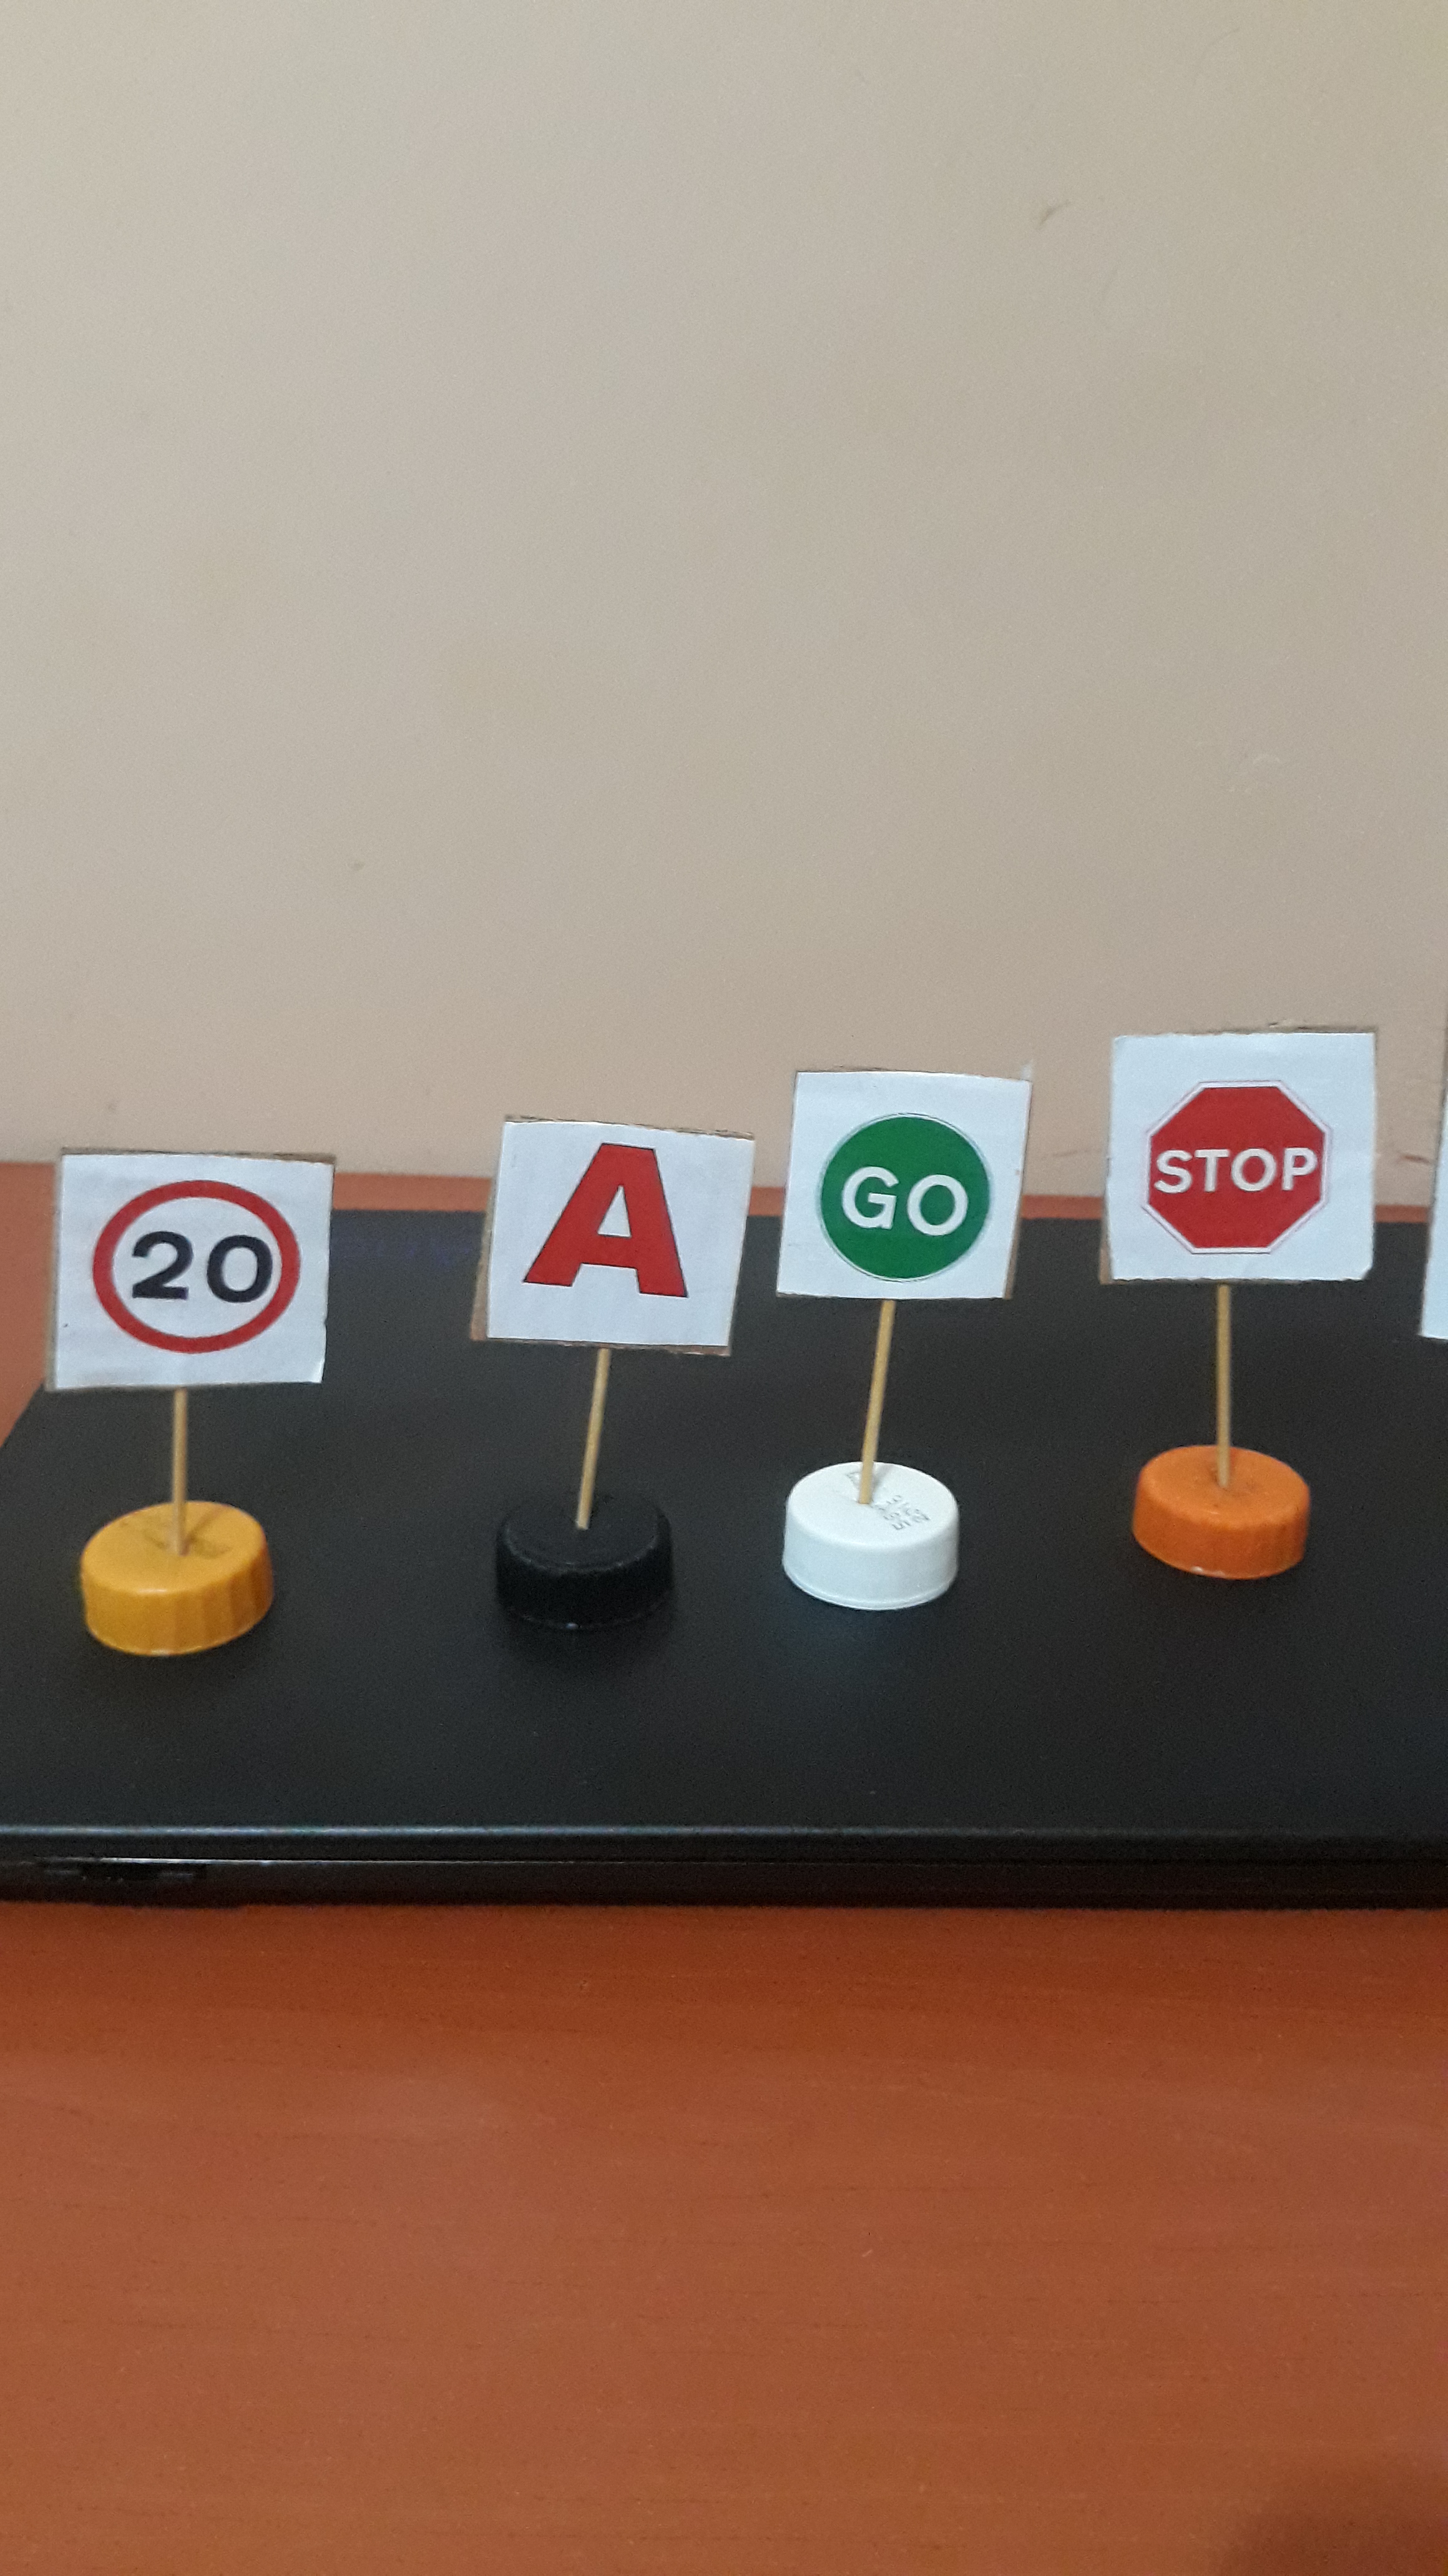20 kph: (73, 1168, 319, 1373)
go: (805, 1085, 1016, 1292)
stop: (1129, 1035, 1352, 1269)
zone A: (506, 1132, 733, 1339)
